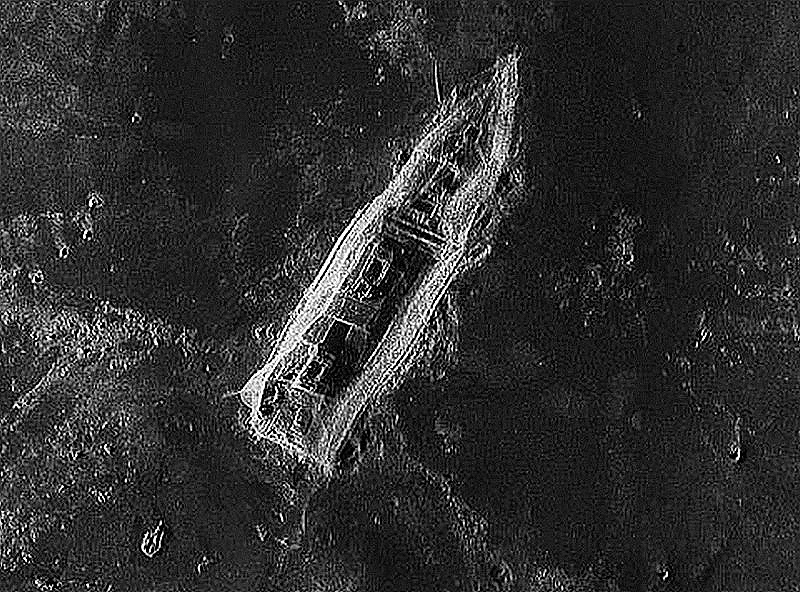ship: (220, 42, 524, 482)
